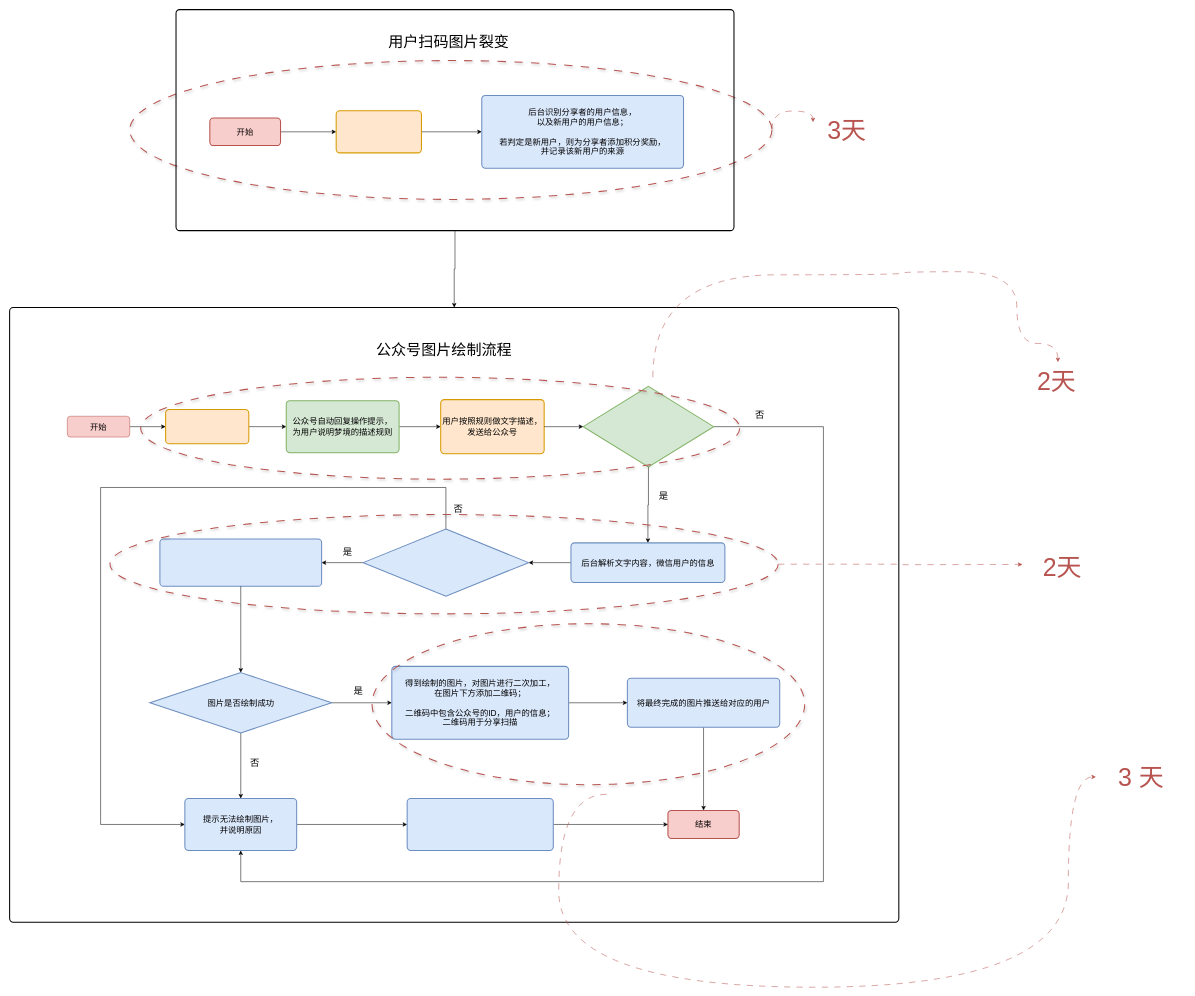
Image size: 1195x996. Some labels were removed from this diagram. The shapes that lost their labels are listed below. From the top down, each one's centre as x and y in pixels, then its label:
the point at 378,131: 用户扫描二维码
the point at 207,426: 用户在菜单点击 “画梦”
the point at 648,426: 公众号解析文字， 是否正确触发“画梦”功能
the point at 240,562: 传入文字内容，调用绘制图片的接口， 等待图片绘制
the point at 445,562: 判断用户 是否拥有绘制图片的权限
the point at 480,824: 将绘制失败的提示信息 推送给用户
